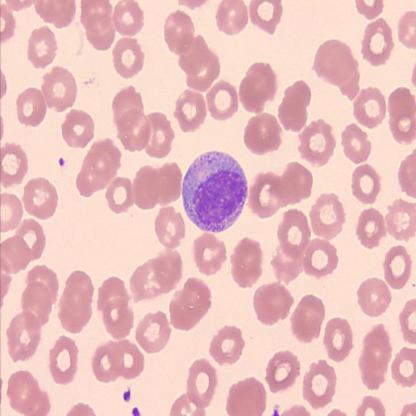Myelocyte: (183, 152, 247, 231)
